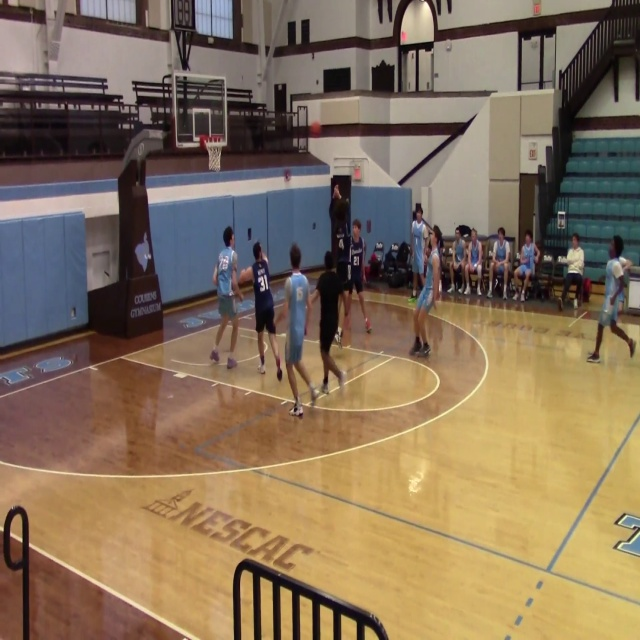Basketball: (309, 121, 321, 137)
